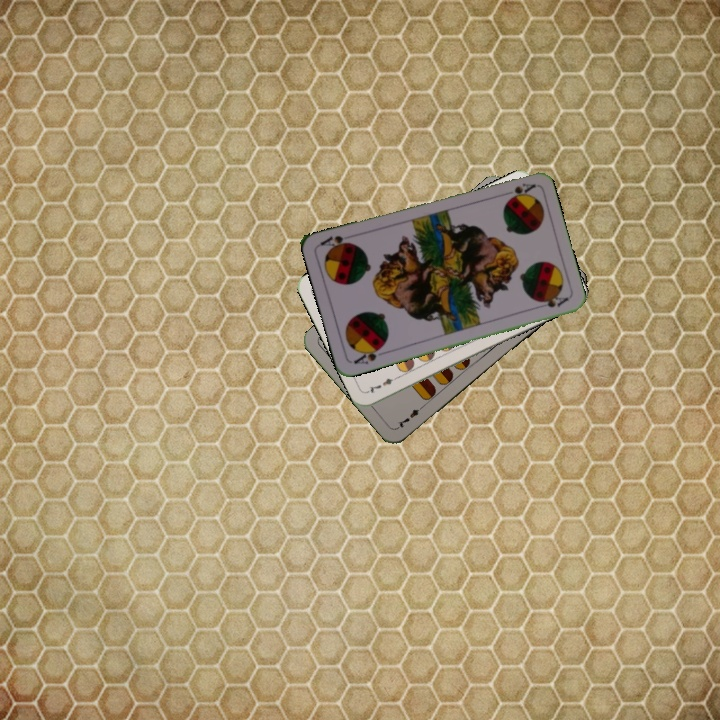E7: (393, 401, 428, 431), (364, 372, 402, 395)
SA: (350, 342, 389, 367), (506, 179, 538, 200)
